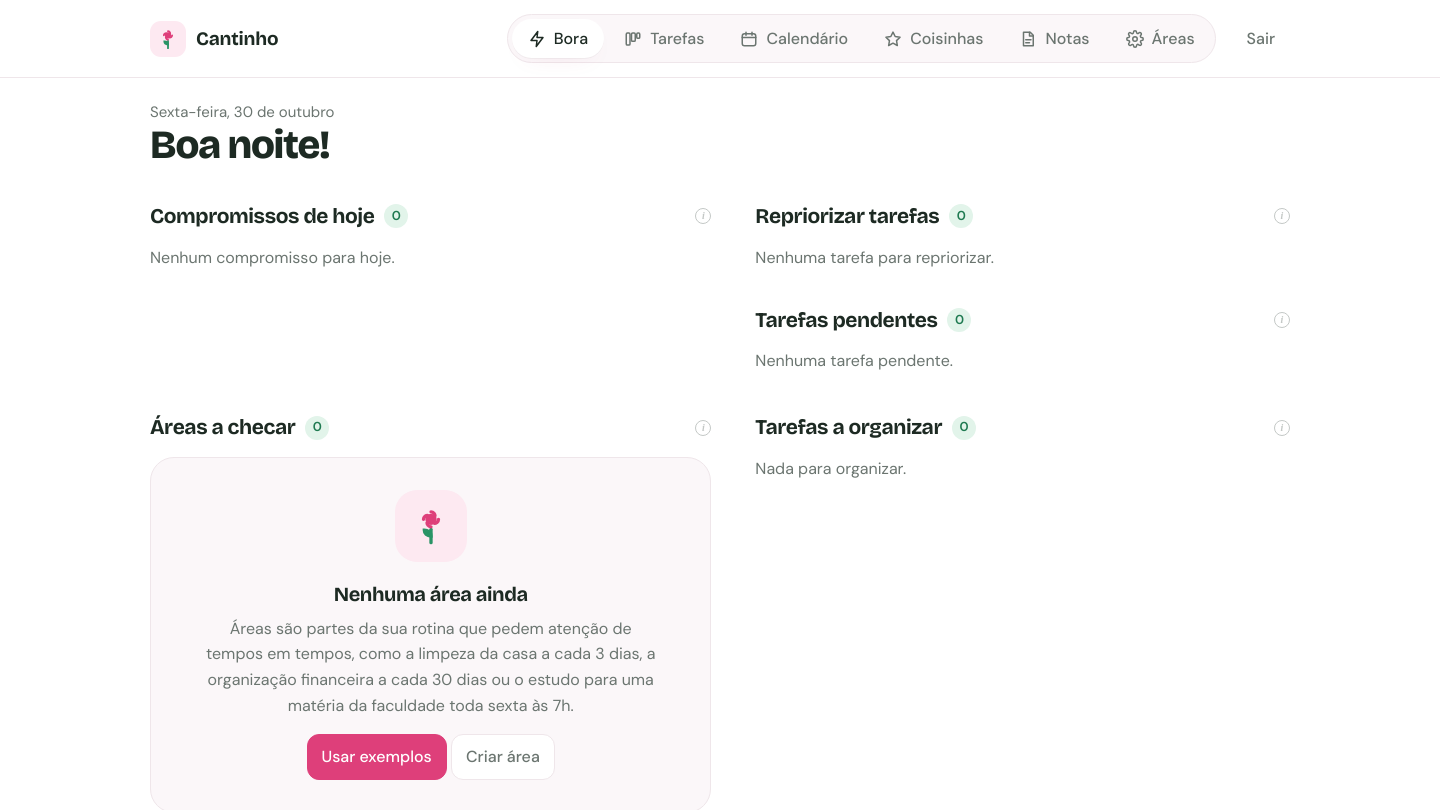
Test: Falhas do servidor › quando a cota acaba durante o uso, aparece um aviso fixo e o app segue funcionando
Click the tab "Áreas": click(1160, 39) x1=1110 y1=19 x2=1211 y2=58
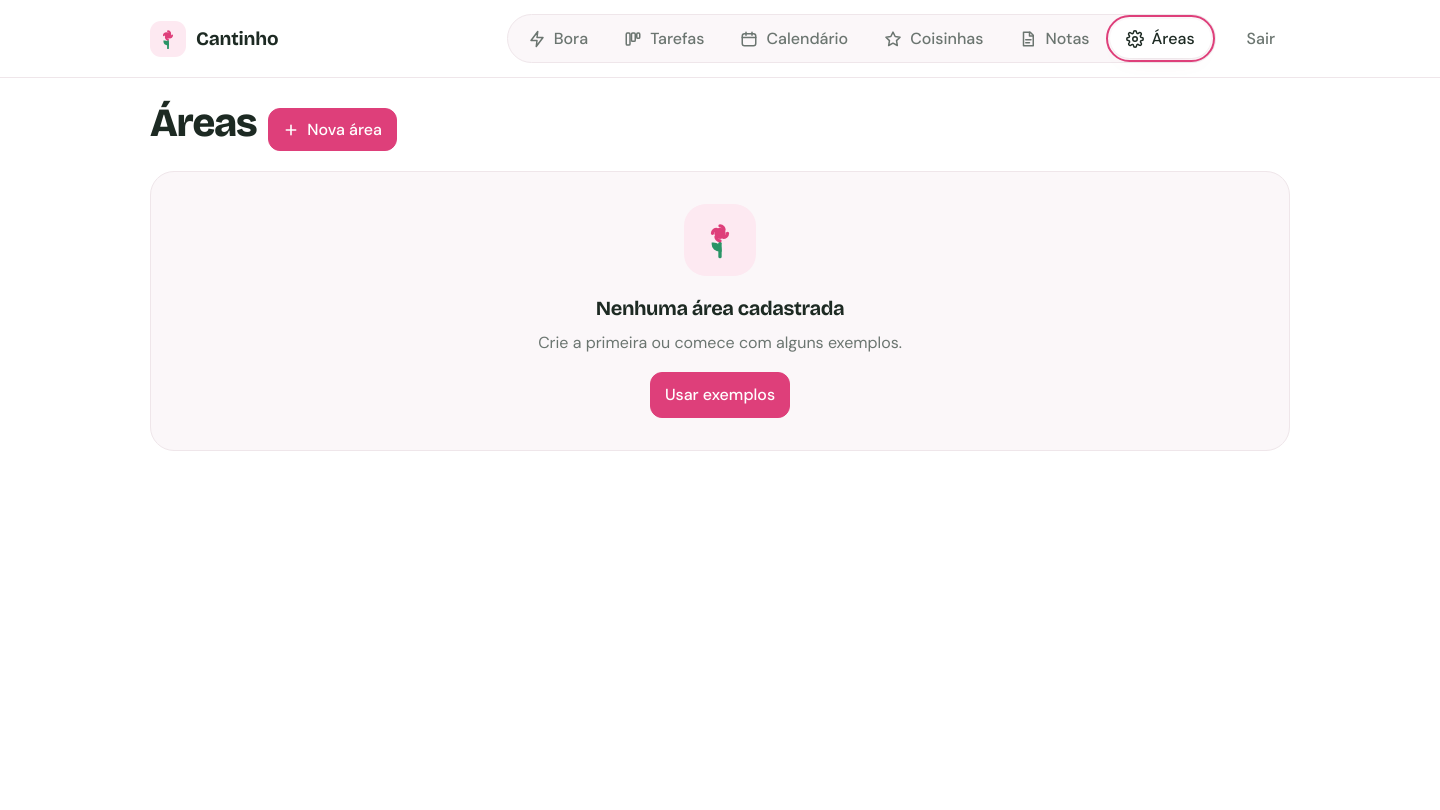
Click the button "Nova área": click(333, 130) x1=268 y1=108 x2=397 y2=151
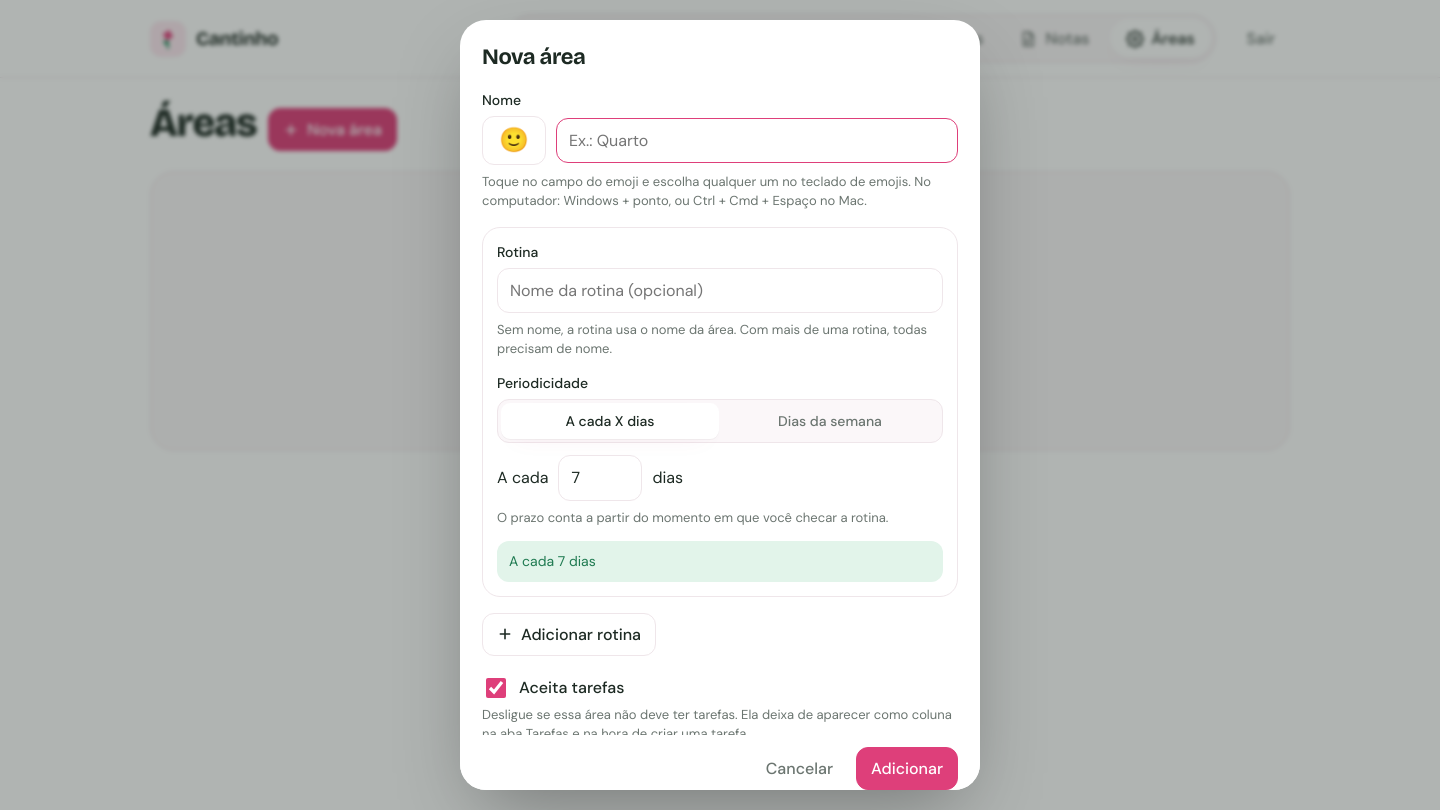
In the field with placeholder "Ex.: Quarto": (757, 141) x1=556 y1=118 x2=958 y2=163, type "Quarto"
Then press Enter
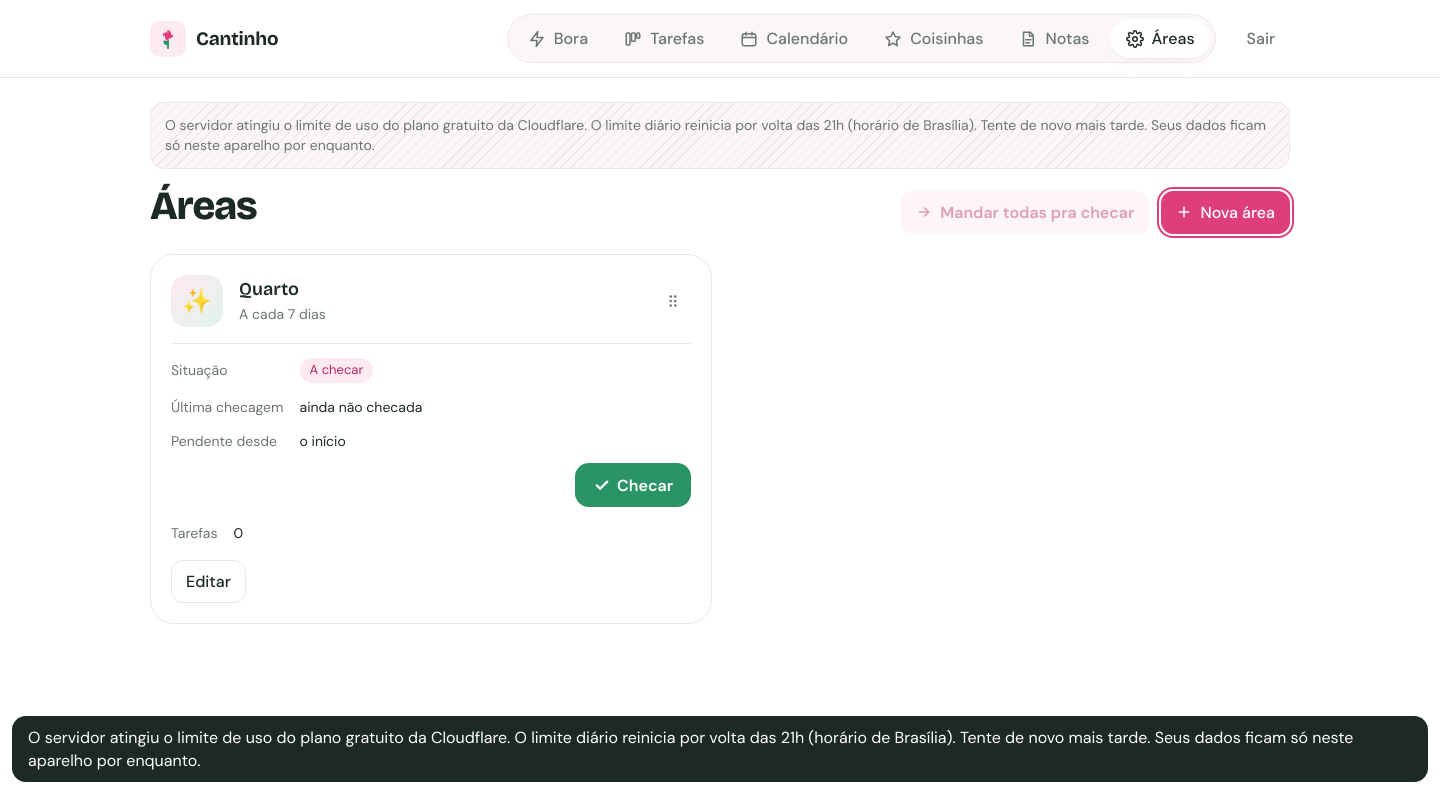
Now the 1st text "limite de uso do plano gratuito da Cloudflare" is shown, box x1=165 y1=116 x2=1266 y2=154
Now the 1st text "limite de uso do plano gratuito da Cloudflare" shows "Seus dados ficam só neste aparelho", box x1=165 y1=116 x2=1266 y2=154
Now the text "Quarto" is shown, box x1=239 y1=278 x2=299 y2=300
